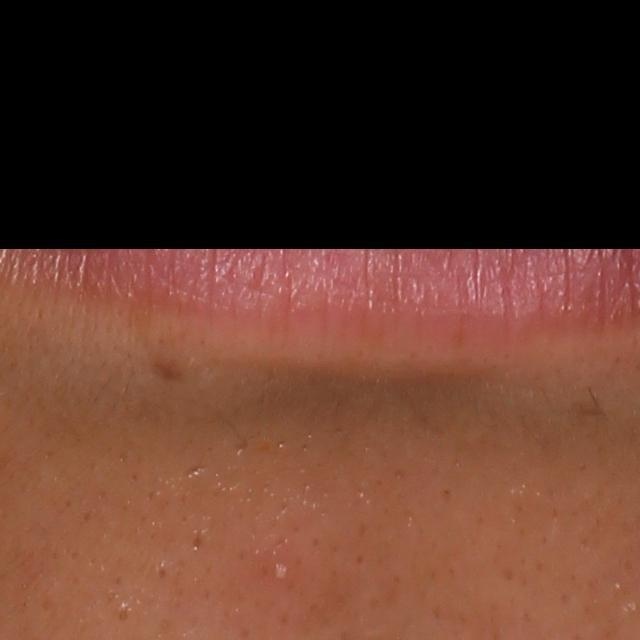comedo: (118, 603, 135, 622)
nevus: (155, 357, 187, 385)
pustule: (268, 557, 295, 584)
